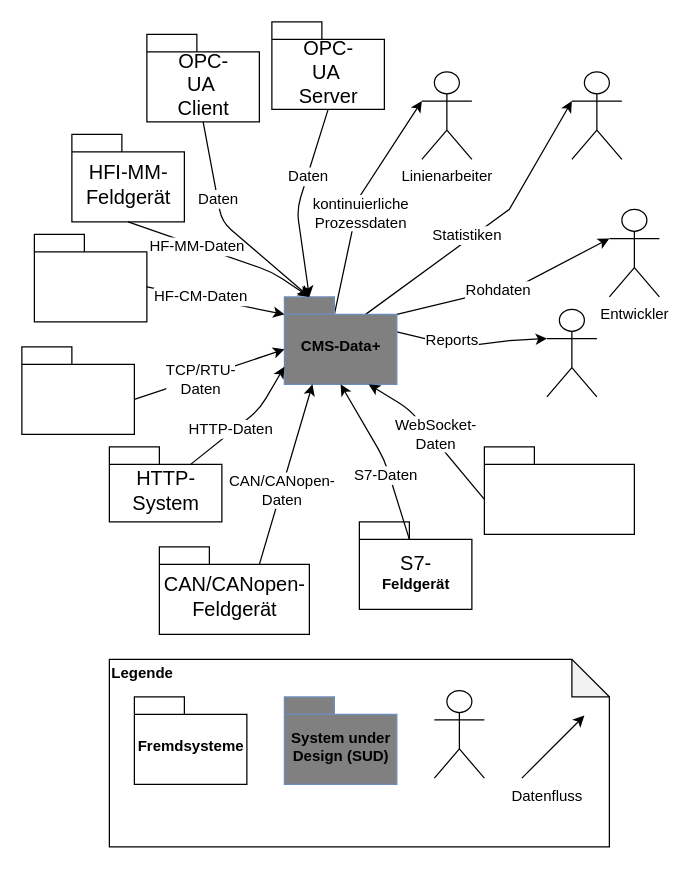
The diagram is 690 pixels wide and 869 high, and some of its shapes have lost their labels. The centre of each missing label's shape, as x and y in pixels:
"Administrator" goes at point 571,352.
"Führungskraft" goes at point 596,115.
"HFI-CM - Feldgerät" goes at point 90,277.
"Modbus TCP/RTU - Feldgerät" goes at point 77,390.
"Nutzer" goes at point 458,733.
"WebSocket - System" goes at point 558,490.
